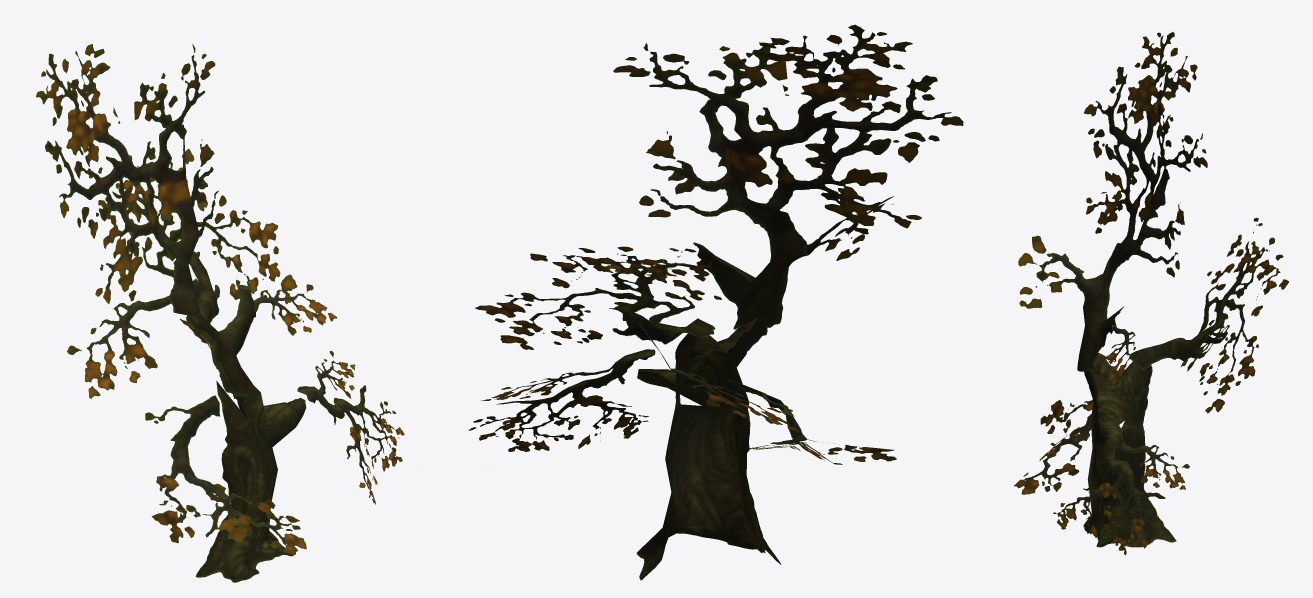
Rendered from fxmg_shu2.FBX.
3 views of the same model, side by side, from view 1: azimuth 30°, elevation 25°; view 2: azimuth 150°, elevation 25°; view 3: azimuth 270°, elevation 25° (orthographic). The views are drawn at different scales.
Visible parts, largest first — view 1: KLMSM_shu2; view 2: KLMSM_shu2; view 3: KLMSM_shu2.
Boxes of the visible parts, x1,y1,x2,y2 form: KLMSM_shu2: (36, 44, 404, 582); KLMSM_shu2: (468, 24, 963, 580); KLMSM_shu2: (1014, 32, 1288, 555).
Bounding box in the file's own units: 9.38 × 11.35 × 6.89.
